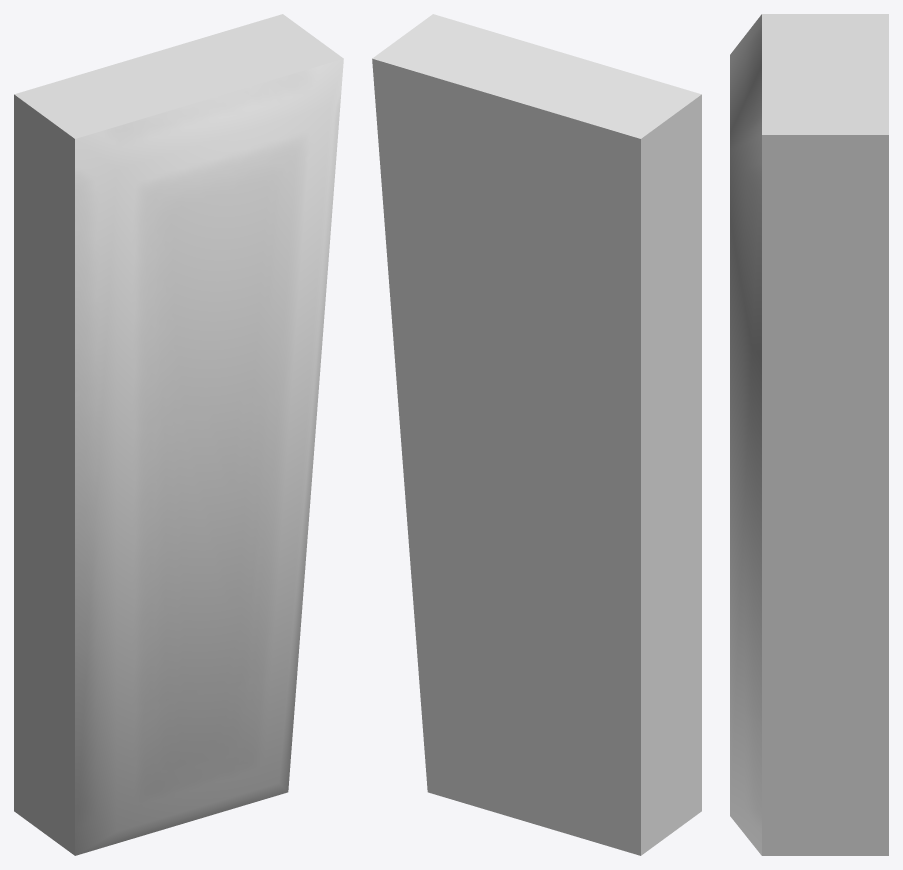
File: LettersStylized01_I.FBX
The picture shows the model from 3 angles, left to right: view 1: azimuth 30°, elevation 25°; view 2: azimuth 150°, elevation 25°; view 3: azimuth 270°, elevation 25°; orthographic projection. The views are drawn at different scales.
Parts seen in each view (by area): view 1: LettersStylized01_I; view 2: LettersStylized01_I; view 3: LettersStylized01_I.
Boxes of the visible parts, x1,y1,x2,y2 form: LettersStylized01_I: (14,14,343,855); LettersStylized01_I: (372,14,701,855); LettersStylized01_I: (730,14,888,855).
Size of what is drawn, in the model's own units: 0.173 by 0.45 by 0.085.
